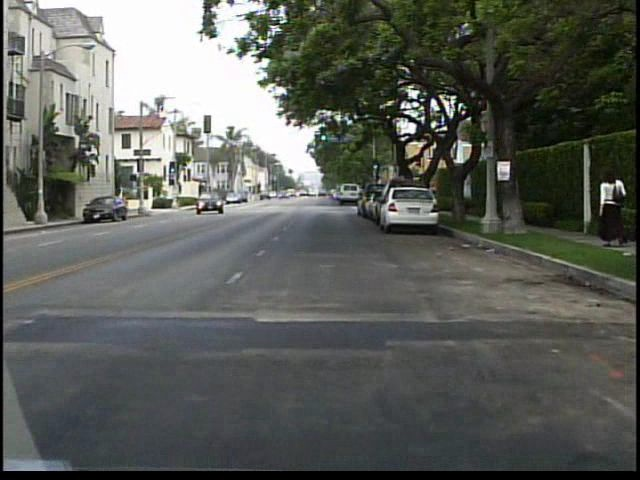person: (590, 164, 631, 252)
